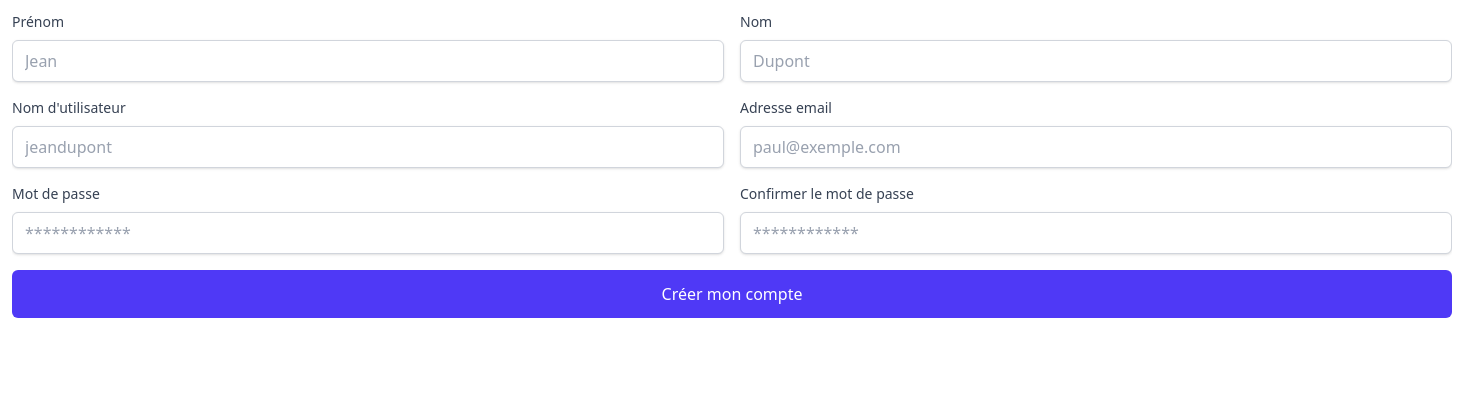
RegisterForm › should show invalid email error
The image size is (1464, 407).
Type "test7@" into the field labelled "Adresse email".
click(1096, 147); type("test7@")  # box [740, 126, 1452, 168]
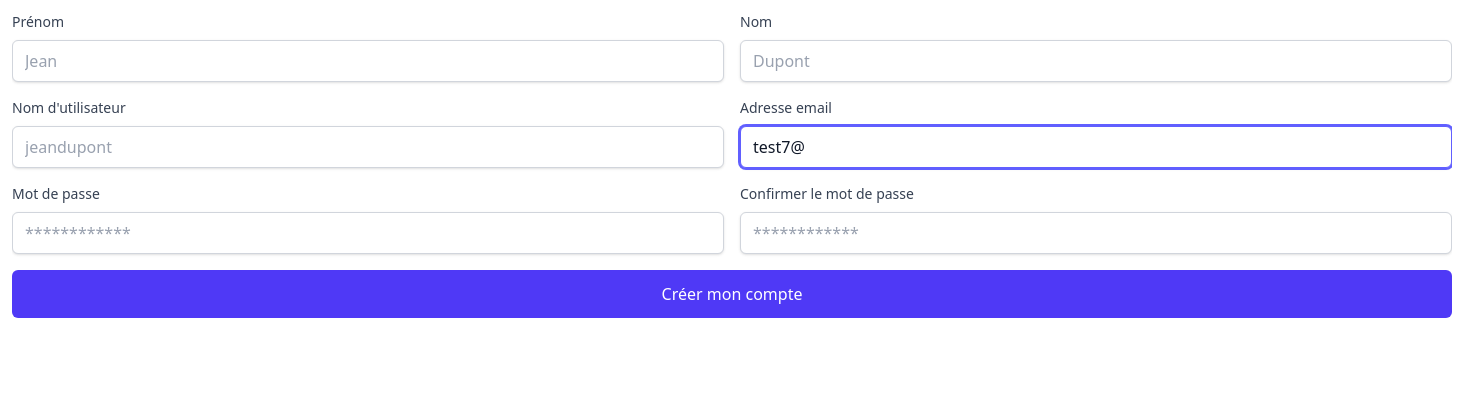
Click the button "Créer mon compte".
click(732, 294)  # box [12, 270, 1452, 318]
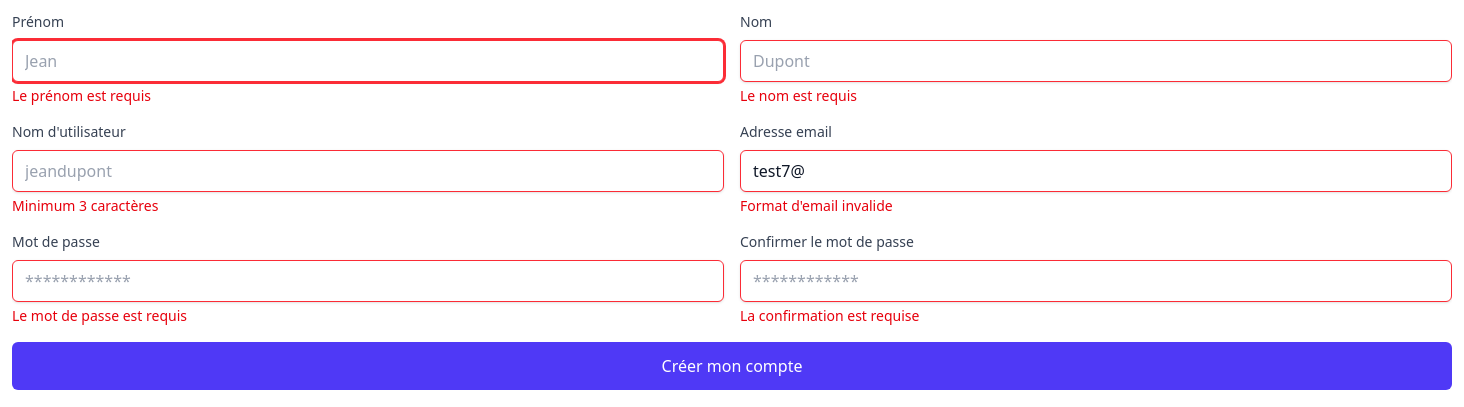
Now the text "Format d'email invalide" is shown, box [740, 196, 893, 215]
